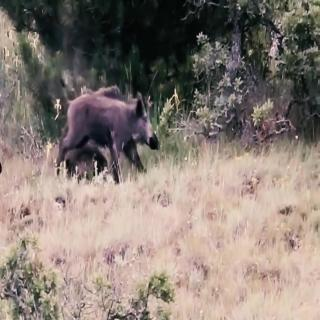Pig: (64, 49, 165, 218)
